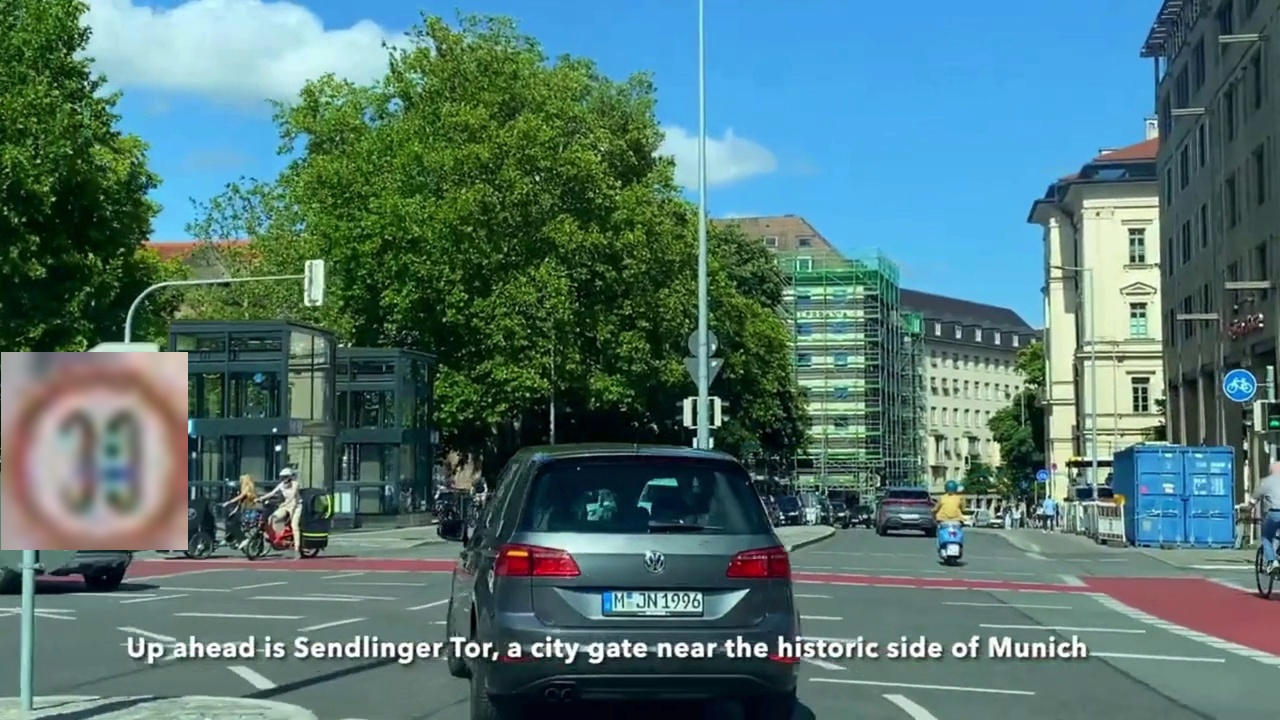Speed 30: (1, 352, 188, 550)
